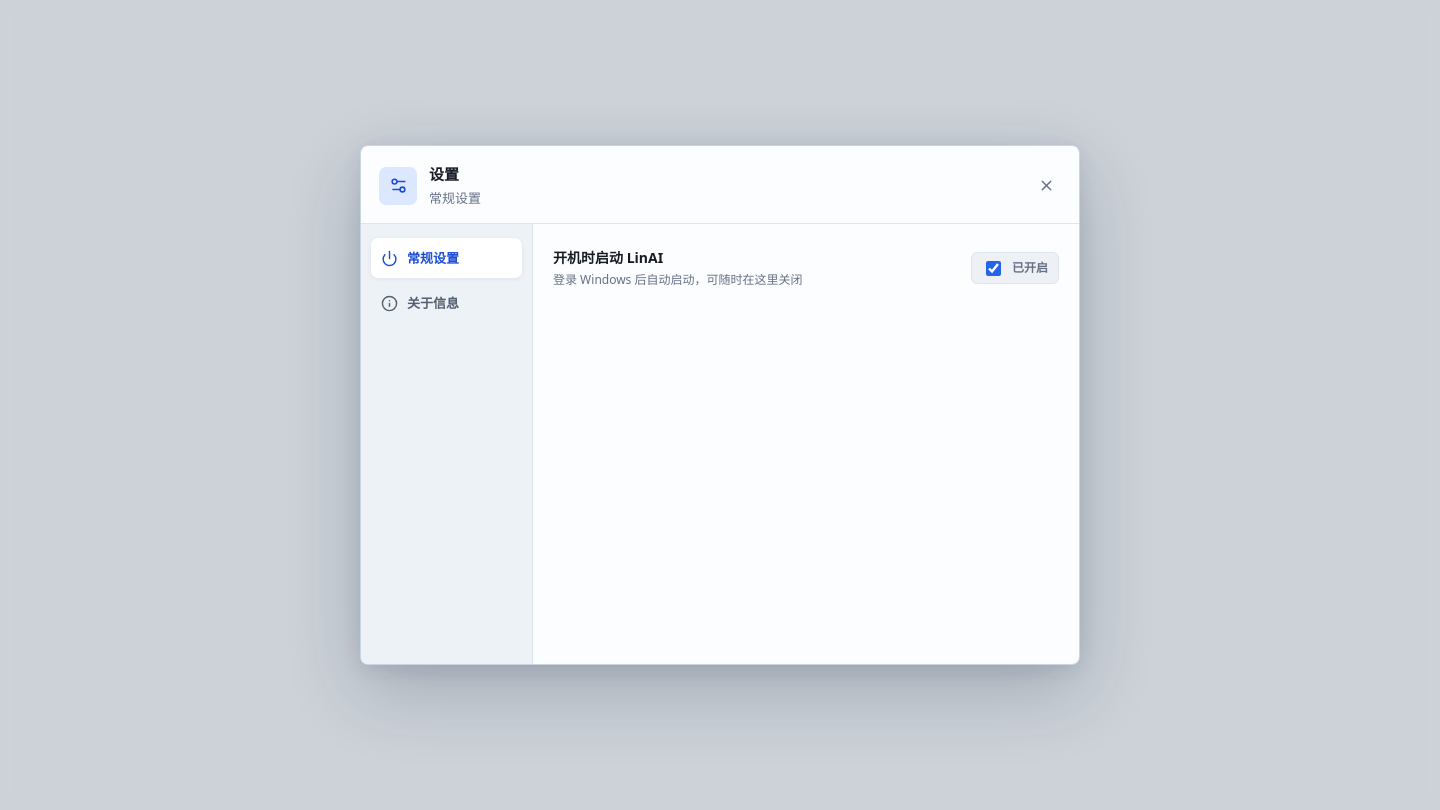
Scenario: SettingsDialog launch at startup › loads the native state and lets the user disable startup
expect the button with test id "settings-tab-general" reads "常规设置": met, box [371,238,522,278]
Click the checkbox with test id "launch-at-startup" at coordinates (994, 268), box [986,261,1001,276]
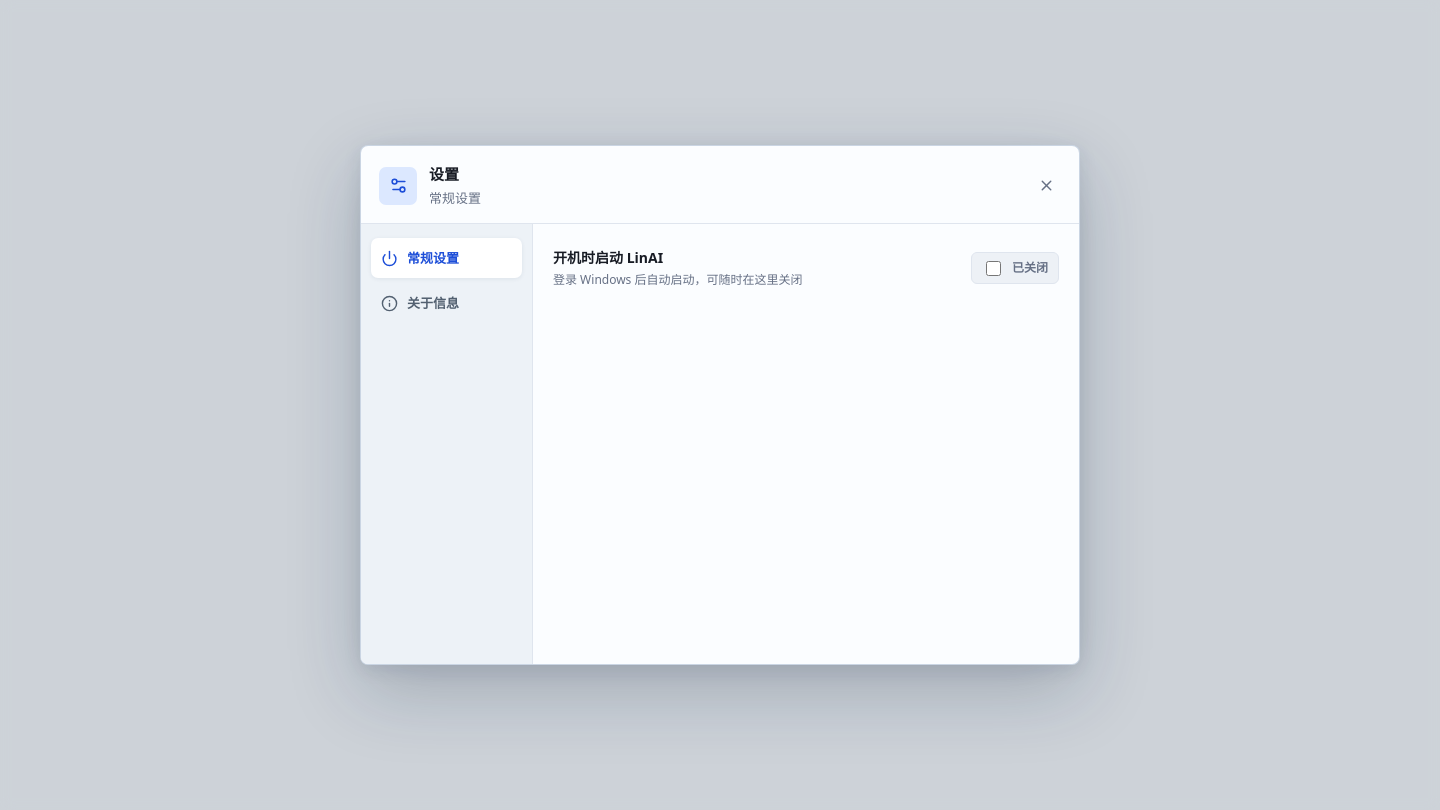
expect the checkbox with test id "launch-at-startup" is not checked: met, box [986,261,1001,276]
expect the text "已关闭" is shown: met, box [1012,259,1048,278]
